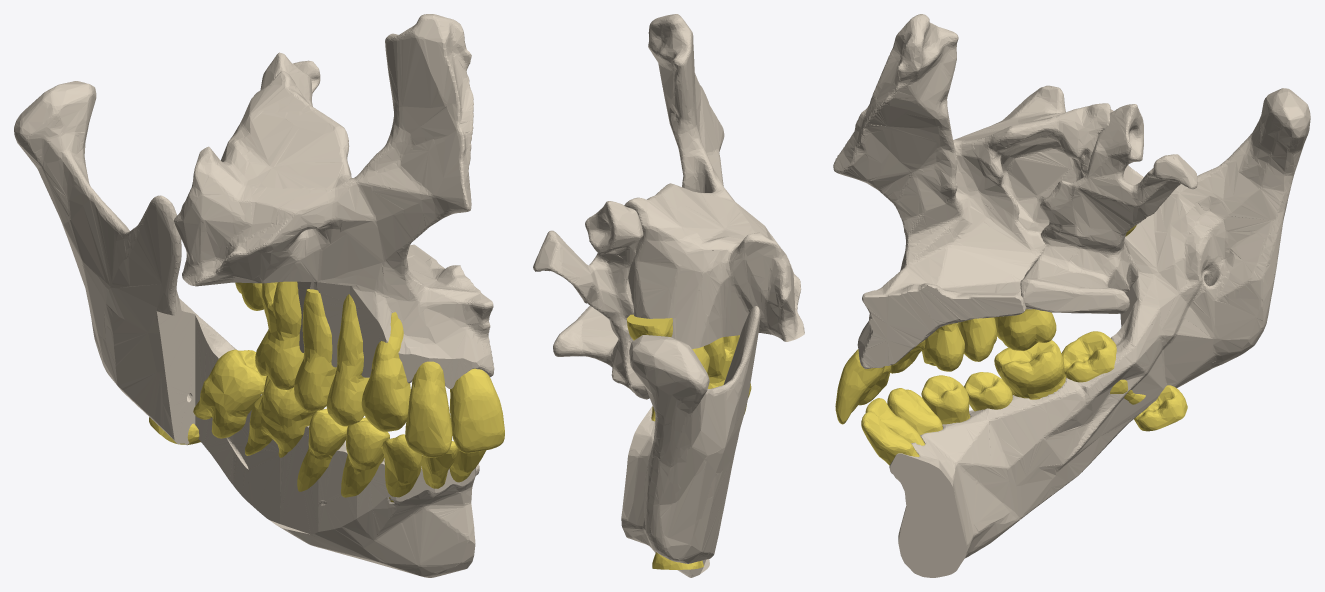
The model's file is age-12-5.glb.
3 renders of one model, left to right at view 1: azimuth 30°, elevation 25°; view 2: azimuth 150°, elevation 25°; view 3: azimuth 270°, elevation 25°, orthographic. The views are drawn at different scales.
Parts seen in each view (by area): view 1: upper-bone, lower-bone, upper-adult-teeth, lower-adult-teeth; view 2: upper-bone, lower-bone, upper-adult-teeth, lower-adult-teeth; view 3: upper-bone, lower-bone, lower-adult-teeth, upper-adult-teeth.
Boxes of the visible parts, <box> form: upper-bone: <box>174,14,494,388</box>; lower-bone: <box>14,81,479,577</box>; upper-adult-teeth: <box>235,281,504,457</box>; lower-adult-teeth: <box>149,349,485,502</box>; upper-bone: <box>533,14,804,399</box>; lower-bone: <box>621,306,760,577</box>; upper-adult-teeth: <box>626,314,751,414</box>; lower-adult-teeth: <box>651,406,703,569</box>; upper-bone: <box>833,14,1197,368</box>; lower-bone: <box>889,88,1310,577</box>; lower-adult-teeth: <box>861,331,1187,465</box>; upper-adult-teeth: <box>835,225,1136,424</box>.
Bounding box in the file's own units: 0.0517 × 0.1088 × 0.0858.
